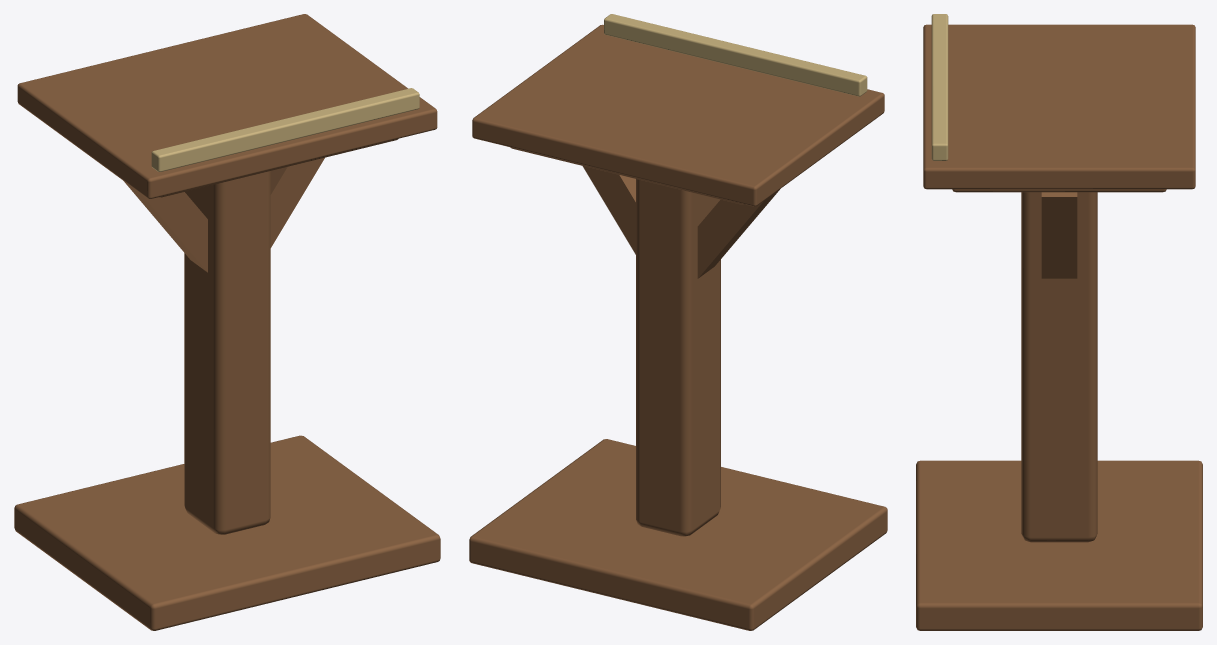
Rendered from tribunal_tribuna.glb.
The picture shows the model from 3 angles, left to right: view 1: azimuth 30°, elevation 25°; view 2: azimuth 150°, elevation 25°; view 3: azimuth 270°, elevation 25°; orthographic projection. The views are drawn at different scales.
Parts seen in each view (by area): view 1: city-courthouse-and-records-office-lectern; view 2: city-courthouse-and-records-office-lectern; view 3: city-courthouse-and-records-office-lectern.
Part boxes in pixels (x1,y1,x2,y2): city-courthouse-and-records-office-lectern: (14,14,440,630); city-courthouse-and-records-office-lectern: (469,14,887,630); city-courthouse-and-records-office-lectern: (916,14,1202,630).
Size of the model in its own units: 0.72 by 1.11 by 0.6.
